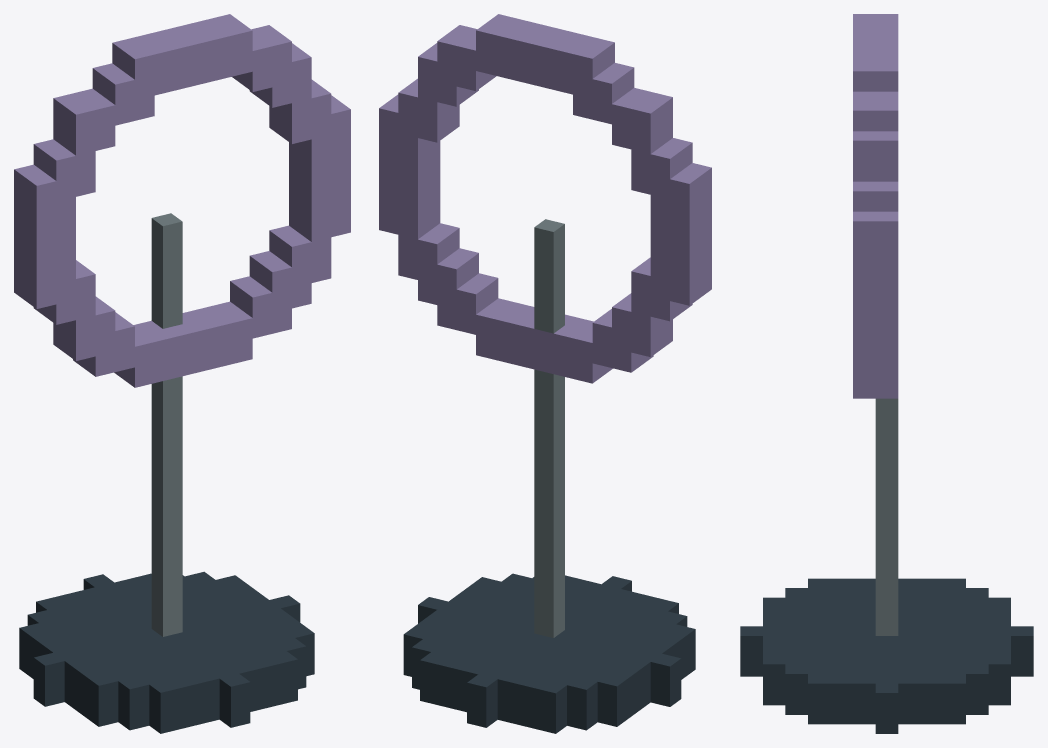
File: social-07.glb
The picture shows the model from 3 angles, left to right: view 1: azimuth 30°, elevation 25°; view 2: azimuth 150°, elevation 25°; view 3: azimuth 270°, elevation 25°; orthographic projection.
Parts seen in each view (by area): view 1: Livestream ring; view 2: Livestream ring; view 3: Livestream ring.
Boxes of the visible parts, x1=… form: Livestream ring: x1=14, y1=14, x2=350, y2=733; Livestream ring: x1=379, y1=14, x2=711, y2=733; Livestream ring: x1=740, y1=14, x2=1033, y2=733.
Bounding box in the file's own units: 1.28 × 2.48 × 1.04.
